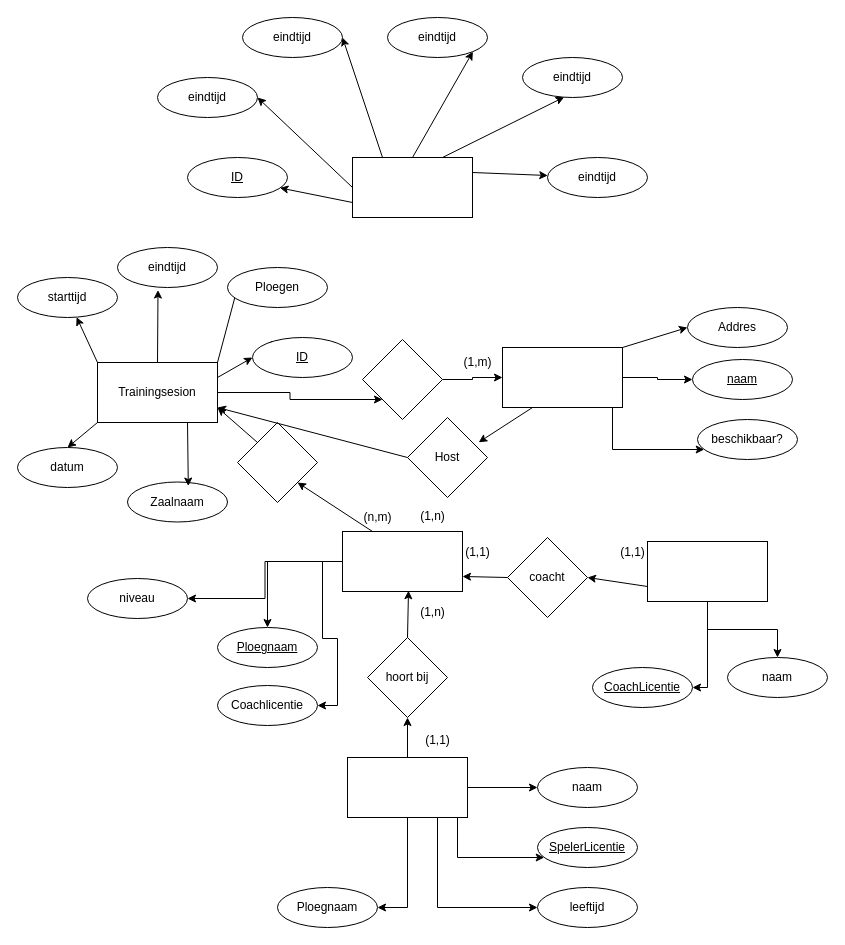
The diagram is 845 pixels wide and 945 high, and some of its shapes have lost their labels. Here are the shapes that lost their labels. From the top down, the centre of each, then its label:
At pixel 412 187: "User".
At pixel 402 379: "wordt gehouden in".
At pixel 562 377: "zaal".
At pixel 277 462: "neemt deel".
At pixel 402 561: "ploeg".
At pixel 707 571: "coach".
At pixel 407 787: "speler".
